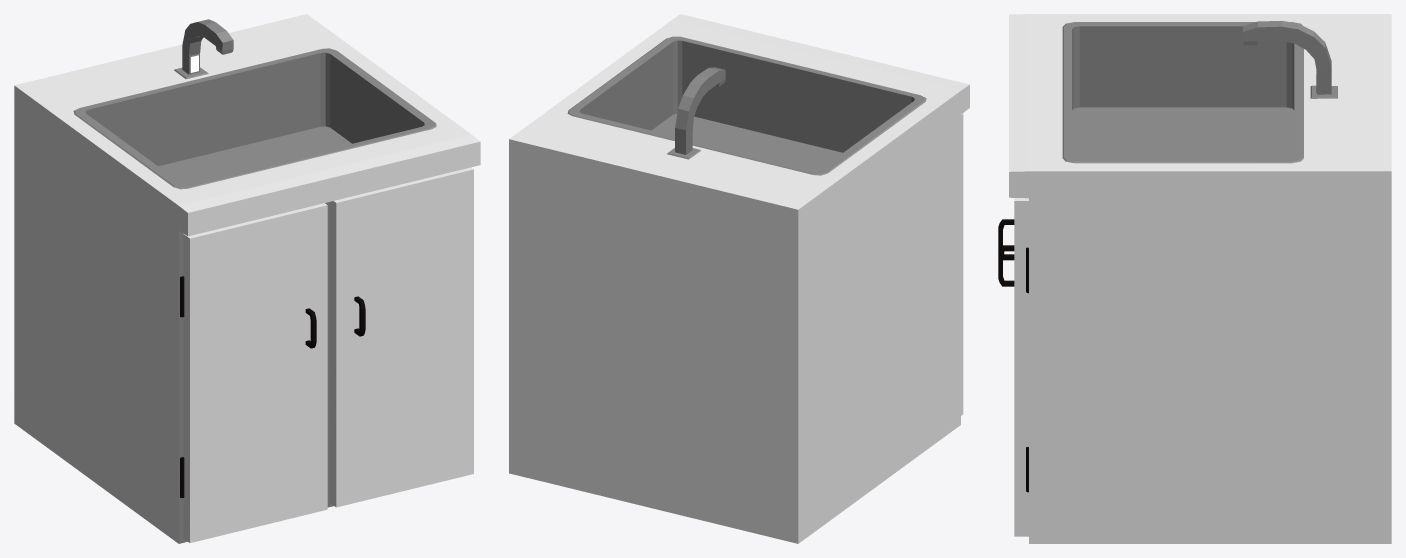
The model's file is counter_sink.fbx.
3 renders of one model, left to right at view 1: azimuth 30°, elevation 25°; view 2: azimuth 150°, elevation 25°; view 3: azimuth 270°, elevation 25°, orthographic. The views are drawn at different scales.
Parts seen in each view (by area): view 1: Cube.001; view 2: Cube.001; view 3: Cube.001.
Part boxes in pixels (left/top/right/bottom): Cube.001: left=14, top=14, right=480, bottom=543; Cube.001: left=509, top=14, right=969, bottom=543; Cube.001: left=998, top=14, right=1391, bottom=543.
Size of the model in its own units: 200 by 262 by 211.
